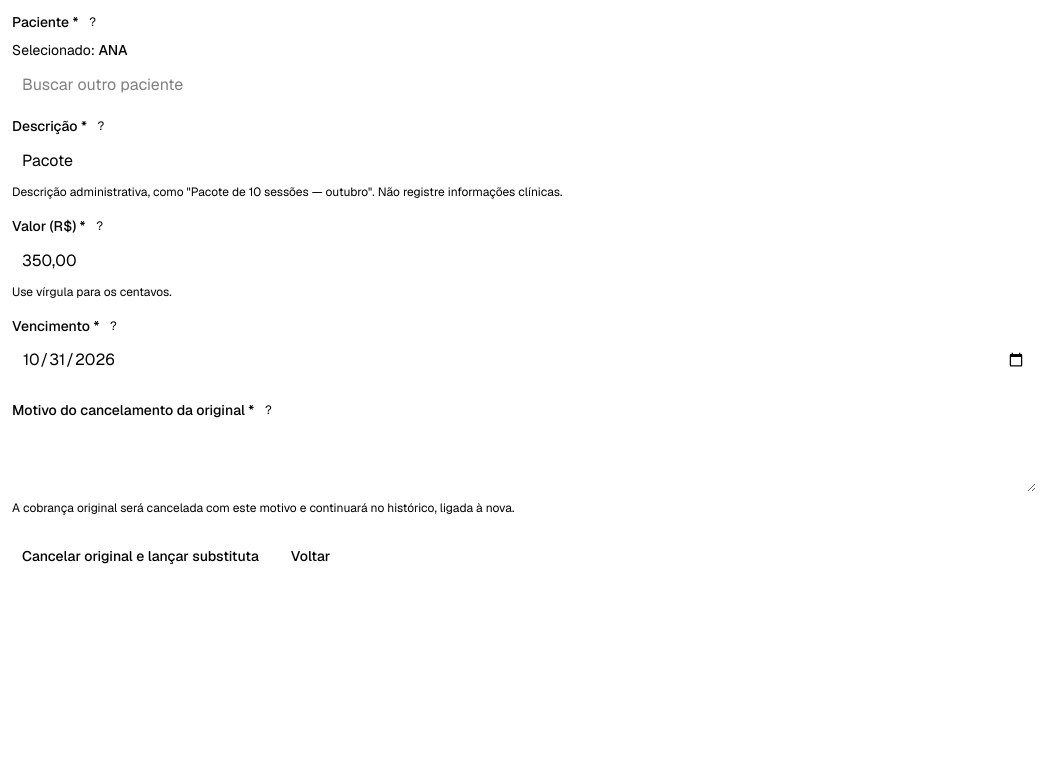
Test: ChargeForm › substituição envia a original e o motivo, com os dados atuais preenchidos
Type "Valor errado" into the text box labelled "Motivo do cancelamento da original *".
click(524, 460); type("Valor errado")  # box [12,428,1036,492]
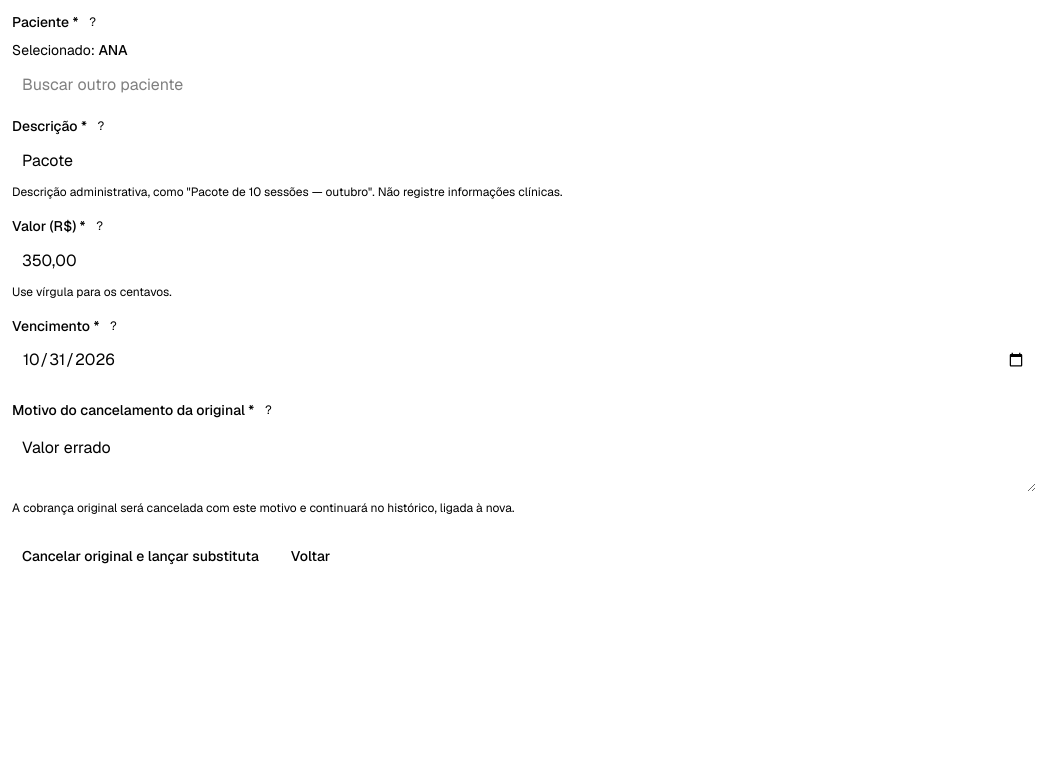
Submit the form named "Cancelar original e lançar substituta"
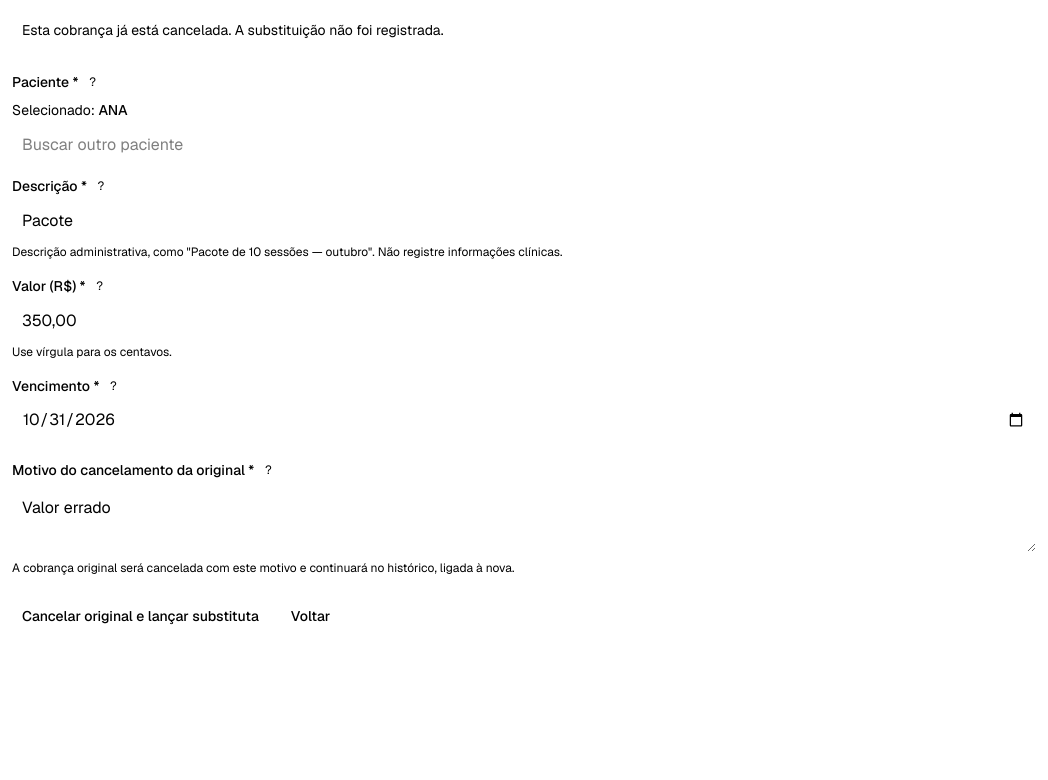
Expected: the text "já está cancelada" is shown, [22,21,444,39]
